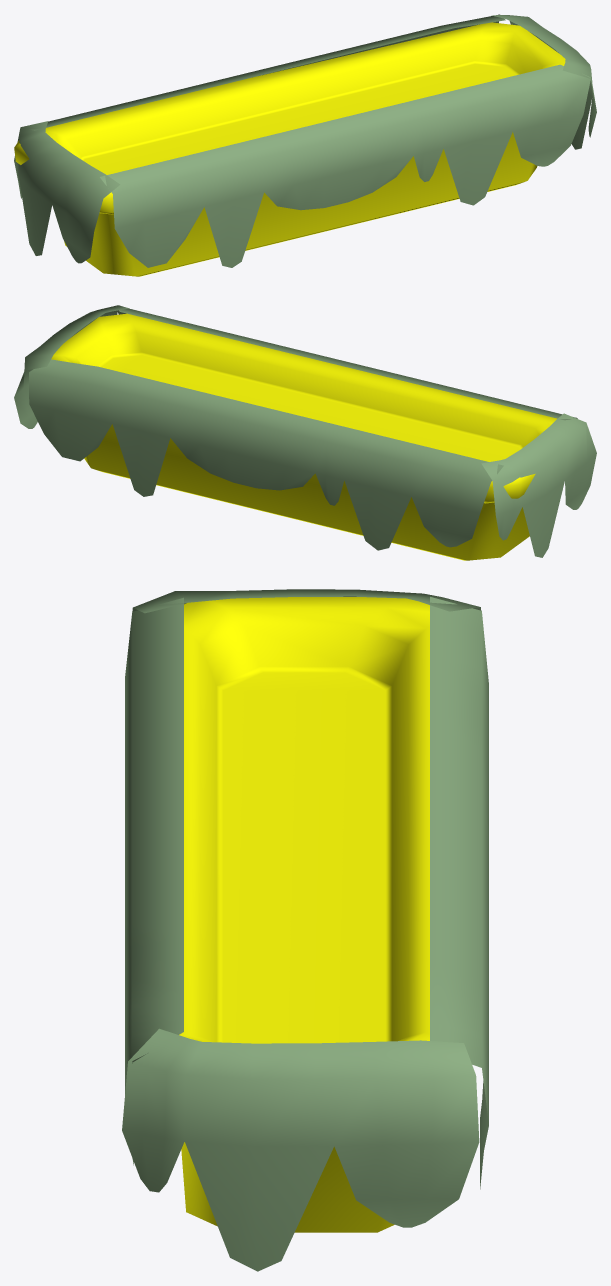
File: Feeder_2.fbx
3 views of the same model, one above another, from view 1: azimuth 30°, elevation 25°; view 2: azimuth 150°, elevation 25°; view 3: azimuth 270°, elevation 25° (orthographic). The views are drawn at different scales.
Parts seen in each view (by area): view 1: Feeder_2; view 2: Feeder_2; view 3: Feeder_2.
Boxes of the visible parts, bbox=[...] form: Feeder_2: bbox=[14, 14, 596, 276]; Feeder_2: bbox=[14, 305, 596, 560]; Feeder_2: bbox=[122, 589, 488, 1271].
Bounding box in the file's own units: 140 × 29.5 × 44.1.
